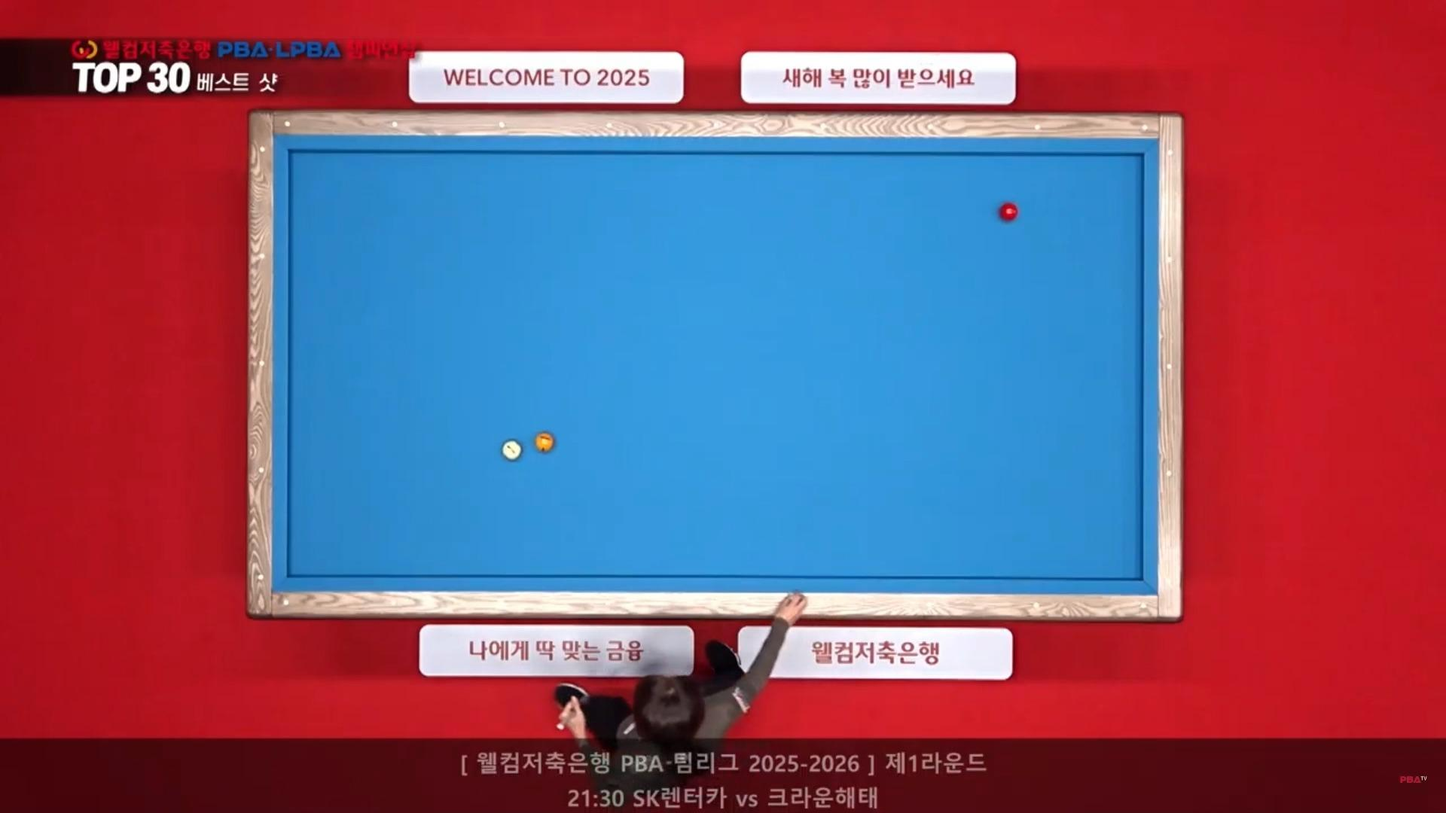-billiard-ball: (501, 438, 522, 461)
Red: (1001, 204, 1024, 223)
White: (499, 440, 522, 461)
Yellow: (536, 434, 559, 453)
